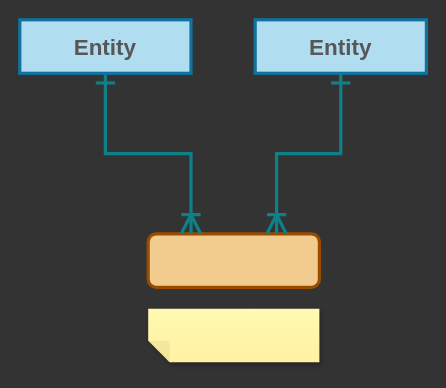
Some shapes in this 446 by 388 pixel diagram are drawn without their labels. Here are the shapes that lost their labels. From the top down, the centre of each, then its label:
At (233,260): "Details".
At (234,336): "M-M".
